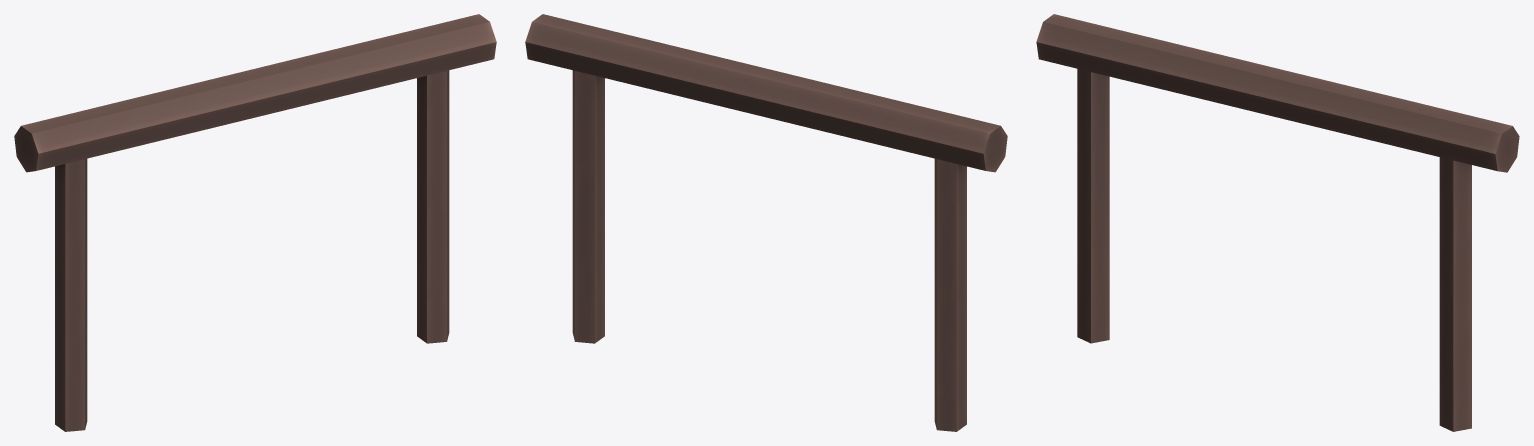
The model's file is Fence_5.fbx.
The picture shows the model from 3 angles, left to right: view 1: azimuth 30°, elevation 25°; view 2: azimuth 150°, elevation 25°; view 3: azimuth 330°, elevation 25°; orthographic projection.
Parts seen in each view (by area): view 1: Fence_5; view 2: Fence_5; view 3: Fence_5.
Boxes of the visible parts, box(x1,y1,x2,y2) form: Fence_5: box(14, 14, 496, 431); Fence_5: box(525, 14, 1007, 431); Fence_5: box(1036, 14, 1519, 431).
Size of the model in its own units: 56.33 by 5.14 by 36.03.
1 material, 1 textured.
